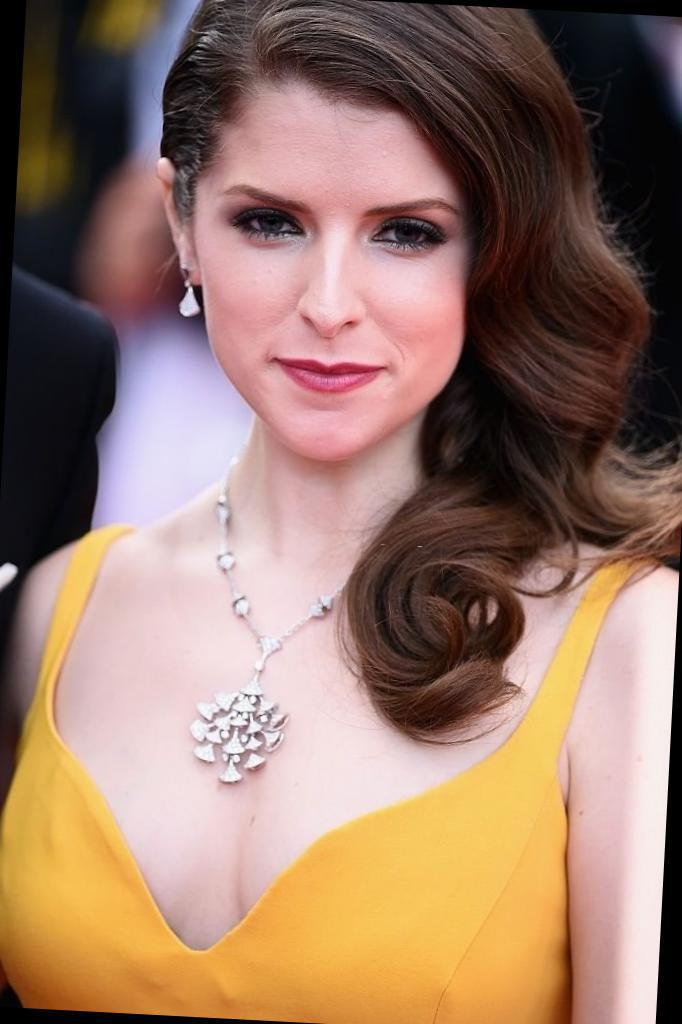Sober: (183, 102, 470, 422)
